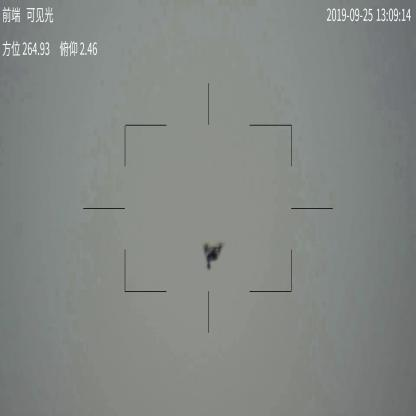uav: (201, 240, 223, 272)
